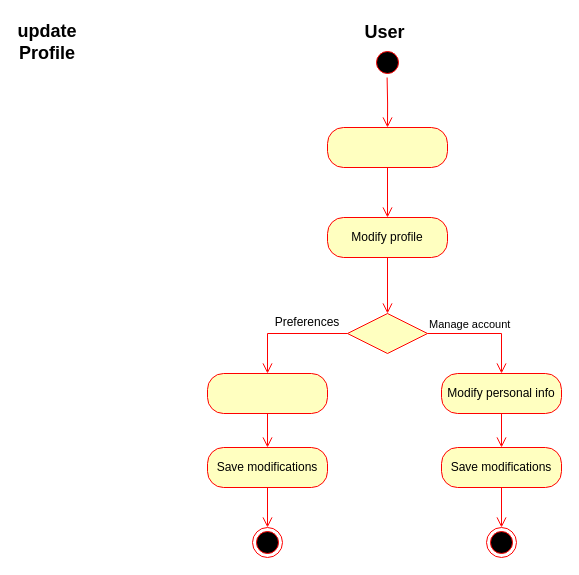
The diagram is 579 pixels wide and 575 high, and some of its shapes have lost their labels. The centre of each missing label's shape, as x and y in pixels:
"Go to profile" belongs at pixel 387 147.
"Modify language and currency" belongs at pixel 267 393.
